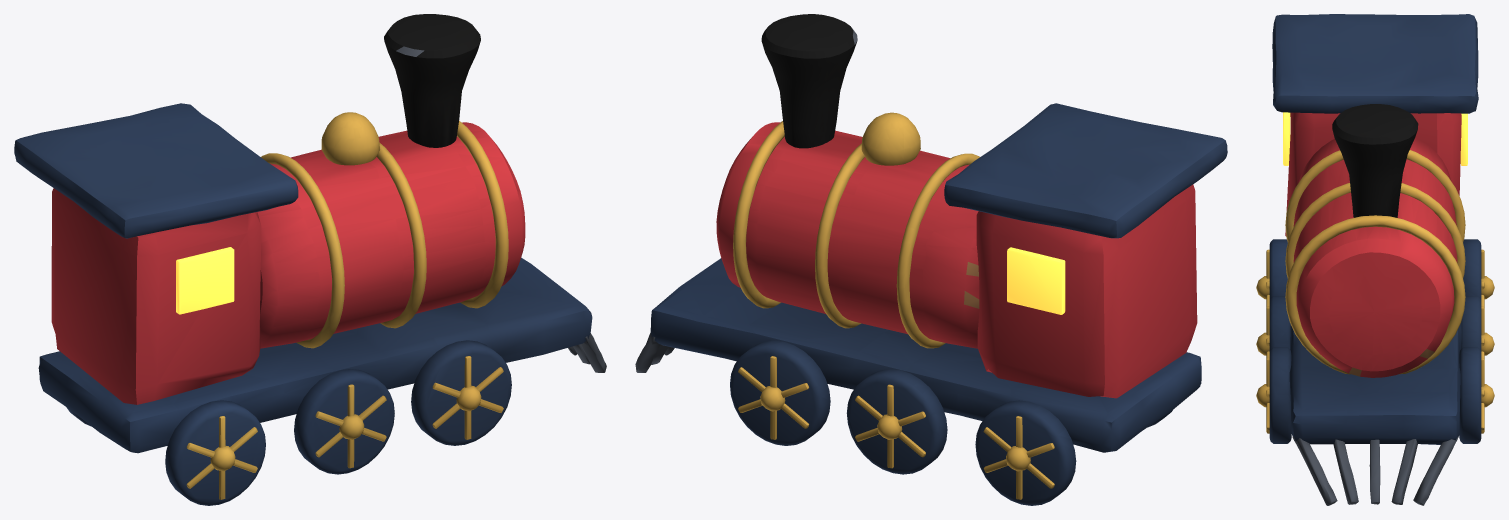
Rendered from frost_toy_train.glb.
3 renders of one model, left to right at view 1: azimuth 30°, elevation 25°; view 2: azimuth 150°, elevation 25°; view 3: azimuth 270°, elevation 25°, orthographic. The views are drawn at different scales.
Visible parts, largest first — view 1: frost_toy_train; view 2: frost_toy_train; view 3: frost_toy_train.
Part boxes in pixels (x1=…): frost_toy_train: x1=14, y1=14, x2=606, y2=505; frost_toy_train: x1=635, y1=14, x2=1227, y2=505; frost_toy_train: x1=1256, y1=14, x2=1494, y2=505.
Bounding box in the file's own units: 20.56 × 13.99 × 9.14.
